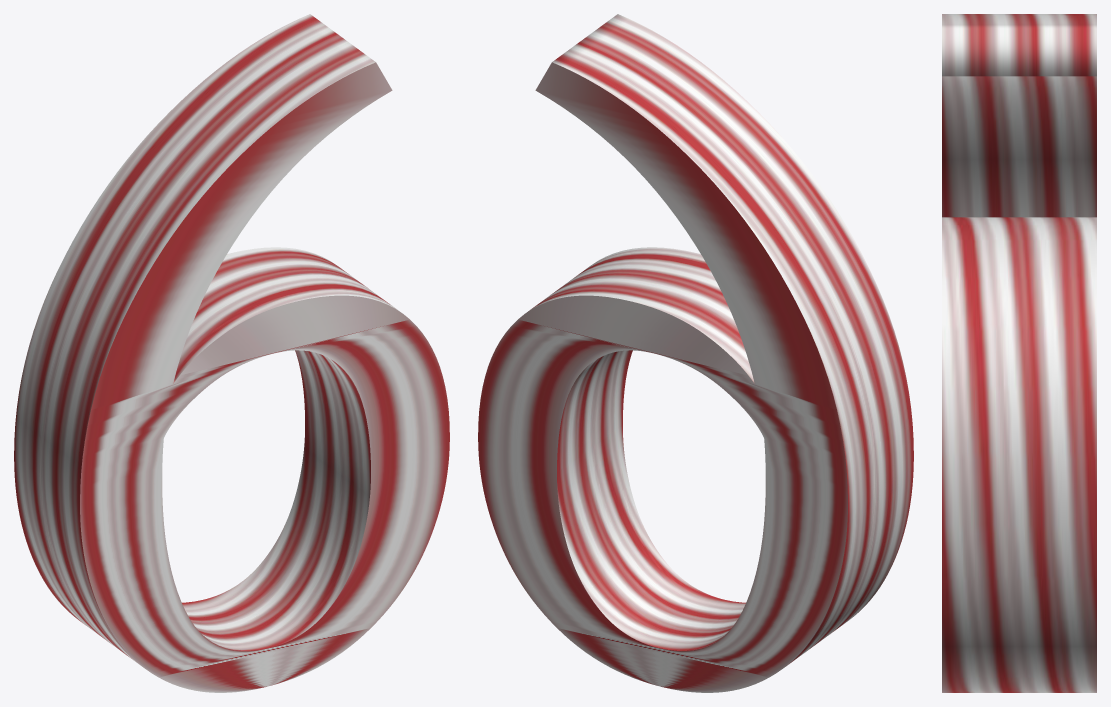
3 renders of one model, left to right at view 1: azimuth 30°, elevation 25°; view 2: azimuth 150°, elevation 25°; view 3: azimuth 270°, elevation 25°, orthographic. The views are drawn at different scales.
Parts seen in each view (by area): view 1: Text.010; view 2: Text.010; view 3: Text.010.
Boxes of the visible parts, bbox=[...] form: Text.010: bbox=[14, 14, 449, 692]; Text.010: bbox=[478, 14, 913, 692]; Text.010: bbox=[942, 14, 1096, 692].
Bounding box in the file's own units: 0.3888 × 0.6006 × 0.12.
Materials: 1 (1 with a texture image).
